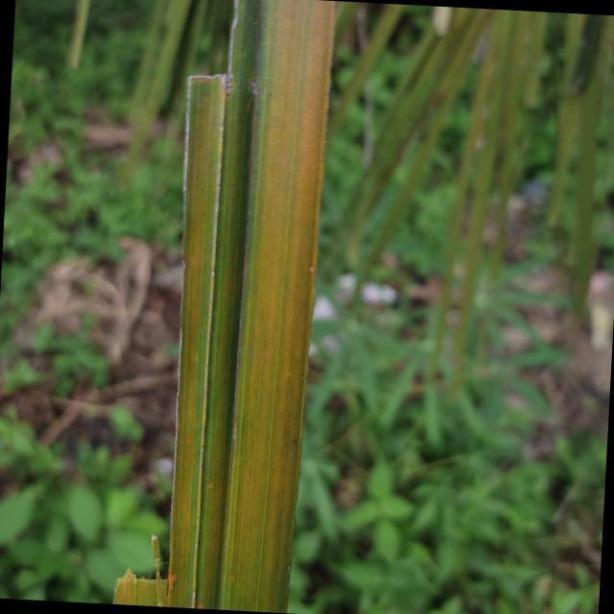Megnesium: (110, 0, 334, 614)
